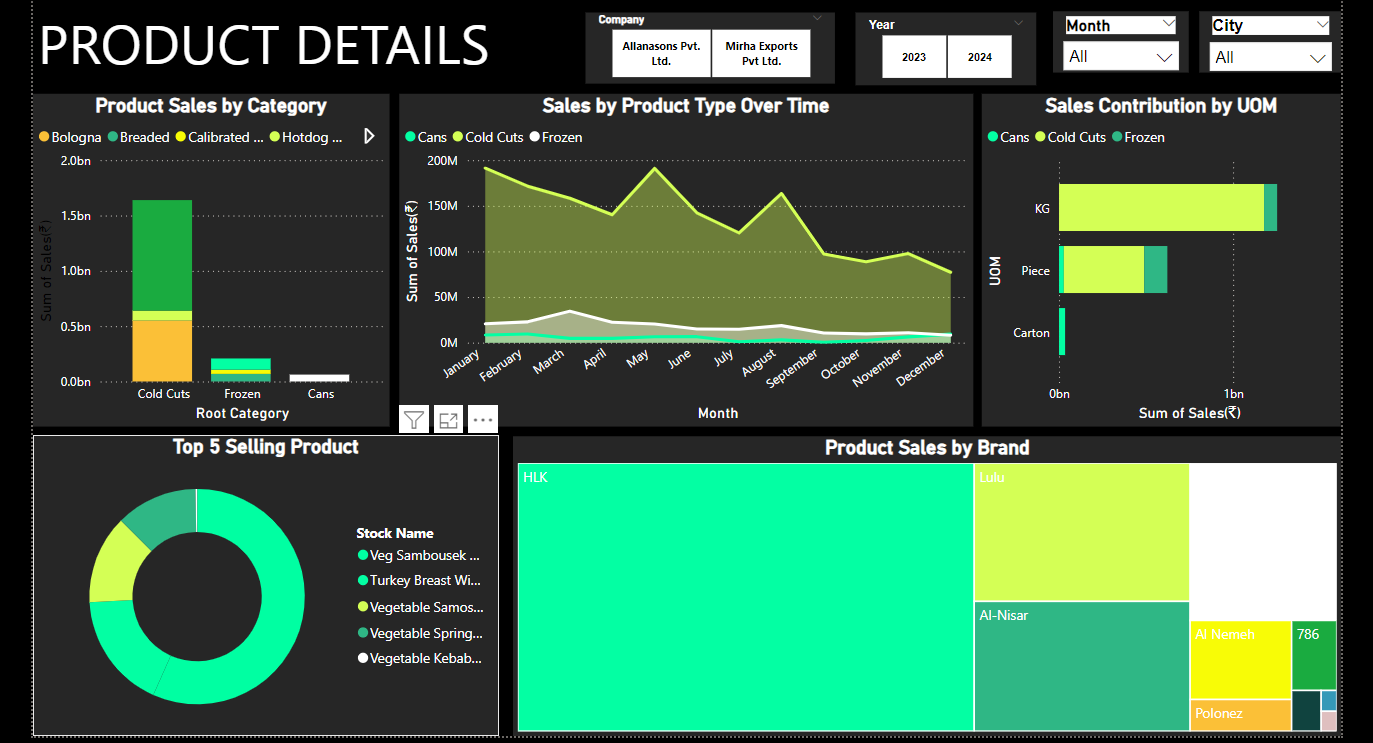

This screenshot's page, from the dashboard's own definition file:
{"tool":"powerbi","page":{"name":"Product Details","canvas":[1280,720],"ordinal":2},"visuals":[{"type":"textbox","box":[0,0,1280.3,81.9],"z":0},{"type":"areaChart","title":"Sales by Product Type Over Time","fields":{"Category":["sales.Inv Date.Variation.Date Hierarchy.Month"],"Series":["sales.Root Category"],"Y":["Sum(sales.Sales(₹))"]},"box":[358.1,91.9,561.2,325.2],"z":1000},{"type":"columnChart","title":"Product Sales by Category","fields":{"Category":["sales.Root Category"],"Series":["sales.SubCategory"],"Y":["Sum(sales.Sales(₹))"]},"box":[0,91.9,348.5,325.2],"z":2000},{"type":"treemap","title":"Product Sales by Brand","fields":{"Group":["sales.Brand"],"Values":["Sum(sales.Sales(₹))"]},"box":[469,426.3,811,293.7],"z":3000},{"type":"barChart","title":"Sales Contribution by UOM","fields":{"Category":["sales.UOM"],"Y":["Sum(sales.Sales(₹))"],"Series":["sales.Root Category"]},"box":[928.7,91.9,351.3,325.2],"z":4000},{"type":"donutChart","title":"Top 5 Selling Product","fields":{"Category":["sales.Stock Name"],"Y":["Sum(sales.Sales(₹))"]},"box":[0,425.4,455.6,295],"z":5000},{"type":"slicer","fields":{"Values":["sales.Month"]},"box":[997.6,11,133.1,60.4],"z":6000},{"type":"slicer","fields":{"Values":["sales.Company"]},"box":[540.7,12.3,244.3,70],"z":8000},{"type":"slicer","fields":{"Values":["sales.City"]},"box":[1140.3,11,140,60.4],"z":9000},{"type":"slicer","fields":{"Values":["sales.Year"]},"box":[804.1,12.3,177,71.4],"z":10000}]}

Visuals, with their boxes on the page's 1280x720 design canvas (x1, y1, x2, y2). These are canvas units, not pixel positions in the 1373x743 screenshot, which may show the page scaled, cropped or inside an application window:
textbox: l=0, t=0, r=1280, b=82
"Sales by Product Type Over Time" areaChart: l=358, t=92, r=919, b=417
"Product Sales by Category" columnChart: l=0, t=92, r=348, b=417
"Product Sales by Brand" treemap: l=469, t=426, r=1280, b=720
"Sales Contribution by UOM" barChart: l=929, t=92, r=1280, b=417
"Top 5 Selling Product" donutChart: l=0, t=425, r=456, b=720
slicer - sales.Month: l=998, t=11, r=1131, b=71
slicer - sales.Company: l=541, t=12, r=785, b=82
slicer - sales.City: l=1140, t=11, r=1280, b=71
slicer - sales.Year: l=804, t=12, r=981, b=84
